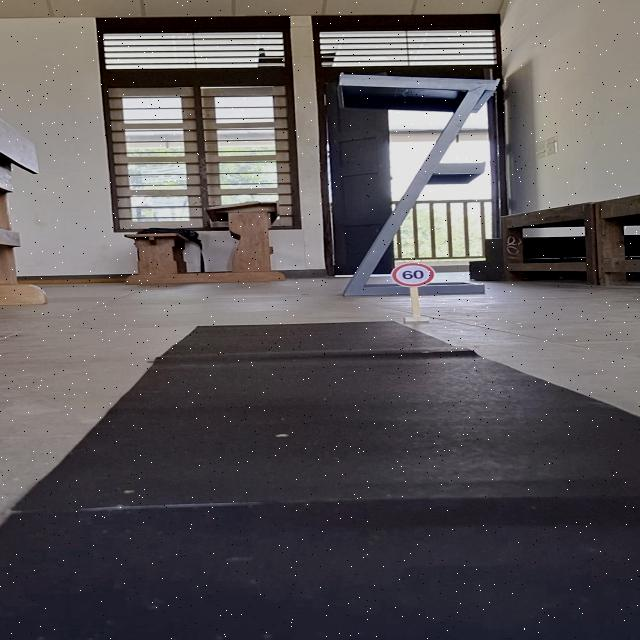Speed60: (390, 262, 438, 288)
